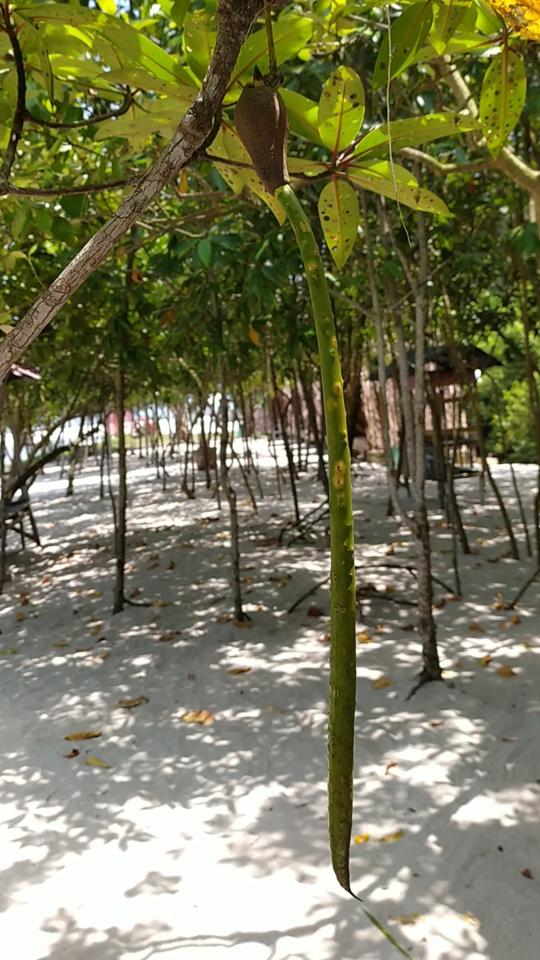setengah matang: (231, 64, 374, 910)
